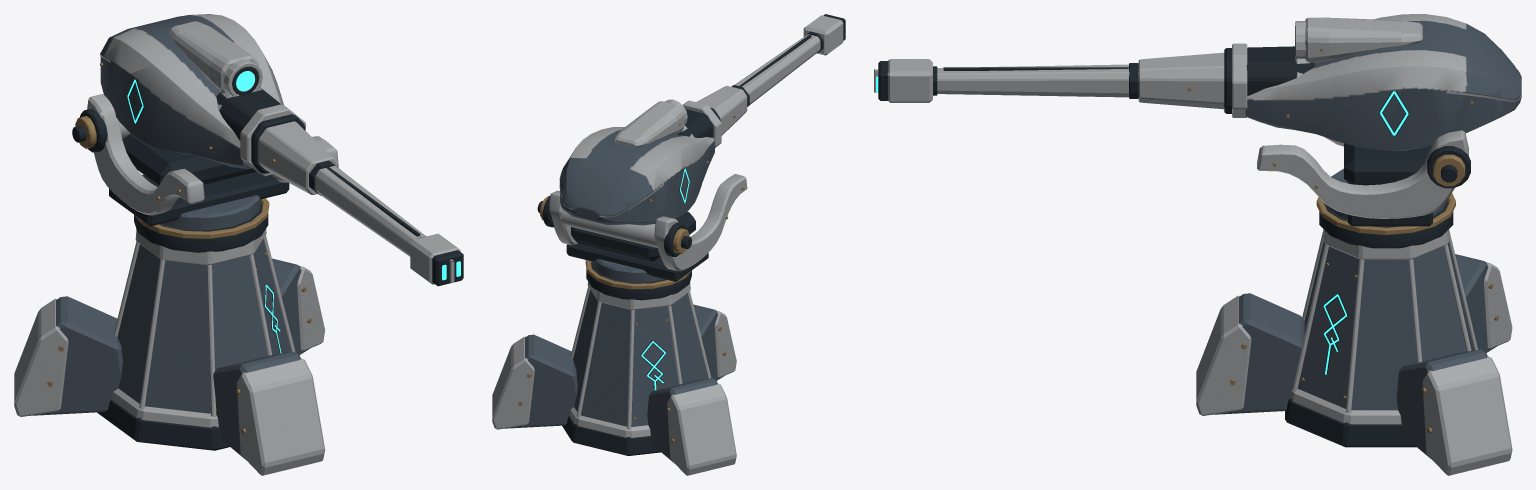
Rendered from sniper-swift-optimized.glb.
The picture shows the model from 3 angles, left to right: view 1: azimuth 30°, elevation 25°; view 2: azimuth 150°, elevation 25°; view 3: azimuth 270°, elevation 25°; orthographic projection. The views are drawn at different scales.
Visible parts, largest first — view 1: turret_root_geometry, turret_barrel_geometry, turret_head_geometry; view 2: turret_root_geometry, turret_barrel_geometry, turret_head_geometry; view 3: turret_root_geometry, turret_barrel_geometry, turret_head_geometry.
Boxes of the visible parts, left/top/right/bottom form: turret_root_geometry: left=14, top=228, right=325, bottom=475; turret_barrel_geometry: left=100, top=14, right=463, bottom=286; turret_head_geometry: left=72, top=94, right=338, bottom=252; turret_root_geometry: left=492, top=281, right=736, bottom=475; turret_barrel_geometry: left=559, top=14, right=845, bottom=225; turret_head_geometry: left=537, top=174, right=747, bottom=300; turret_root_geometry: left=1196, top=229, right=1512, bottom=475; turret_barrel_geometry: left=874, top=14, right=1521, bottom=150; turret_head_geometry: left=1257, top=130, right=1470, bottom=248.
Bounding box in the file's own units: 0.781 × 0.9078 × 1.39.
Materials: 5 (4 with a texture image).
